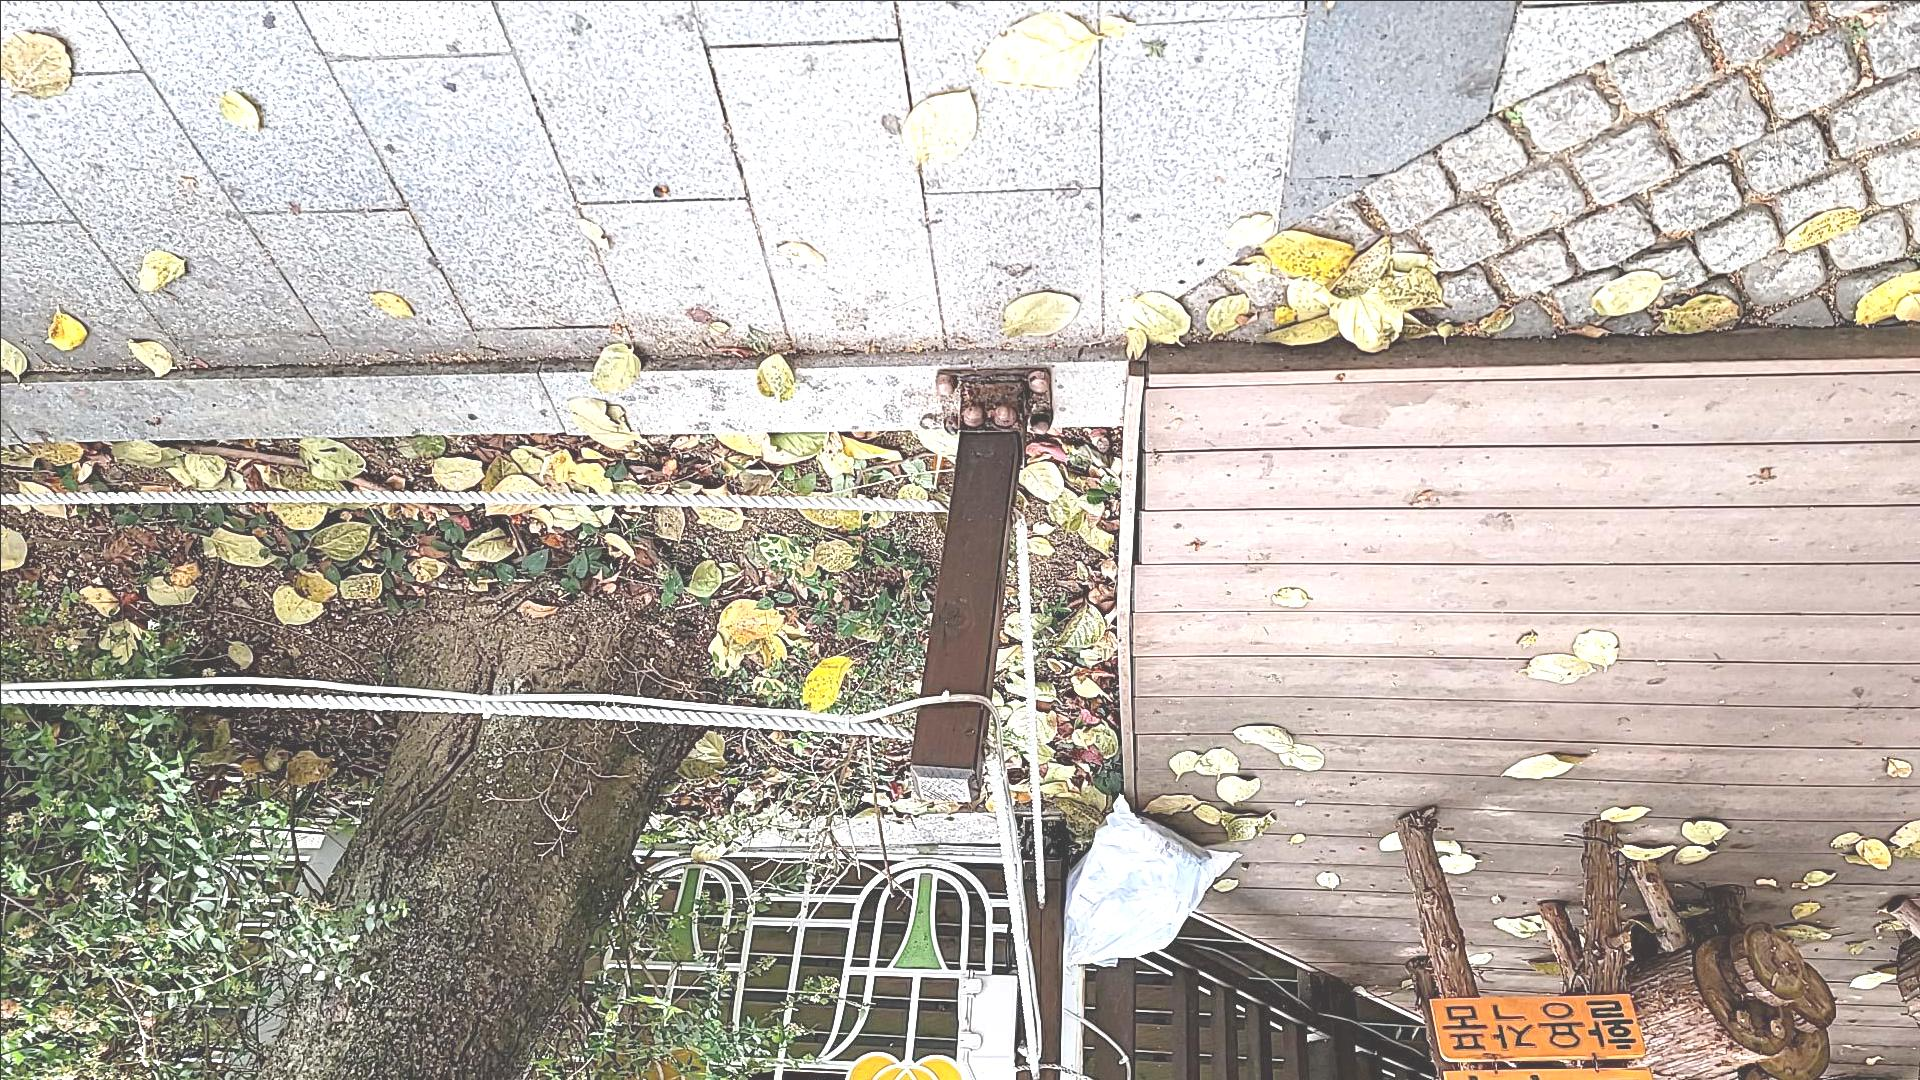white_bag: (1054, 785, 1251, 982)
